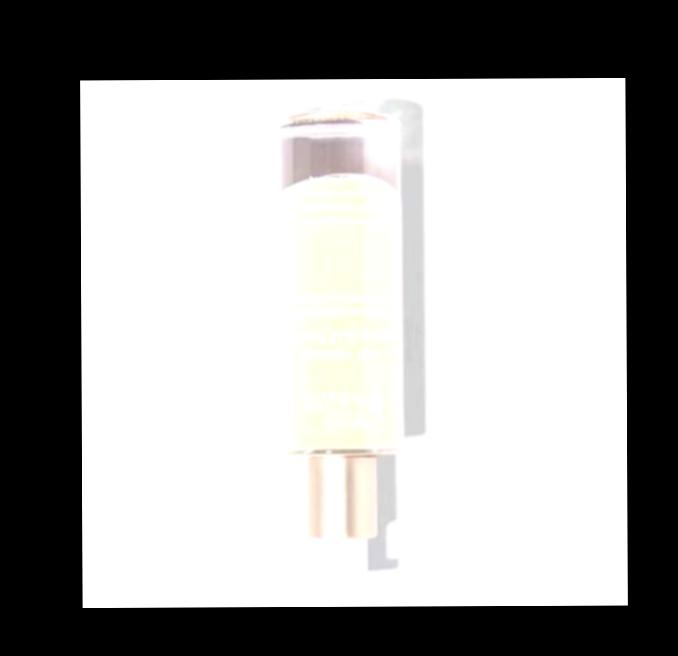cosmetic: (274, 119, 404, 584)
